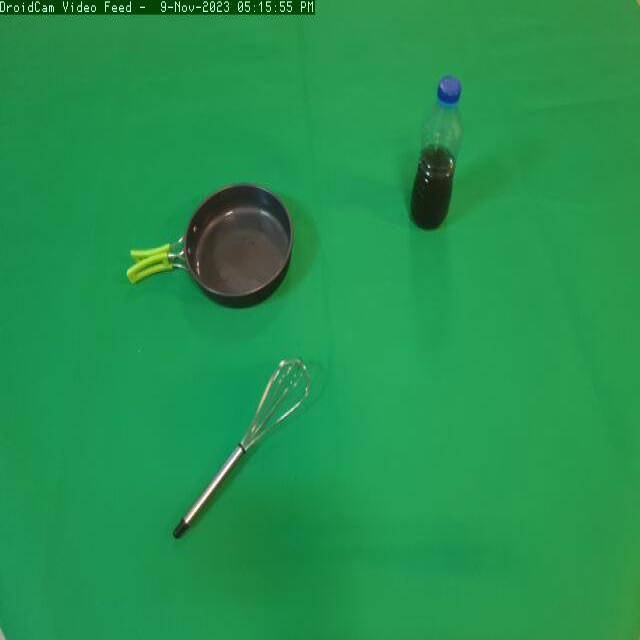fullbottle: (406, 64, 469, 248)
pan: (117, 172, 306, 350)
whisk: (138, 352, 367, 562)
